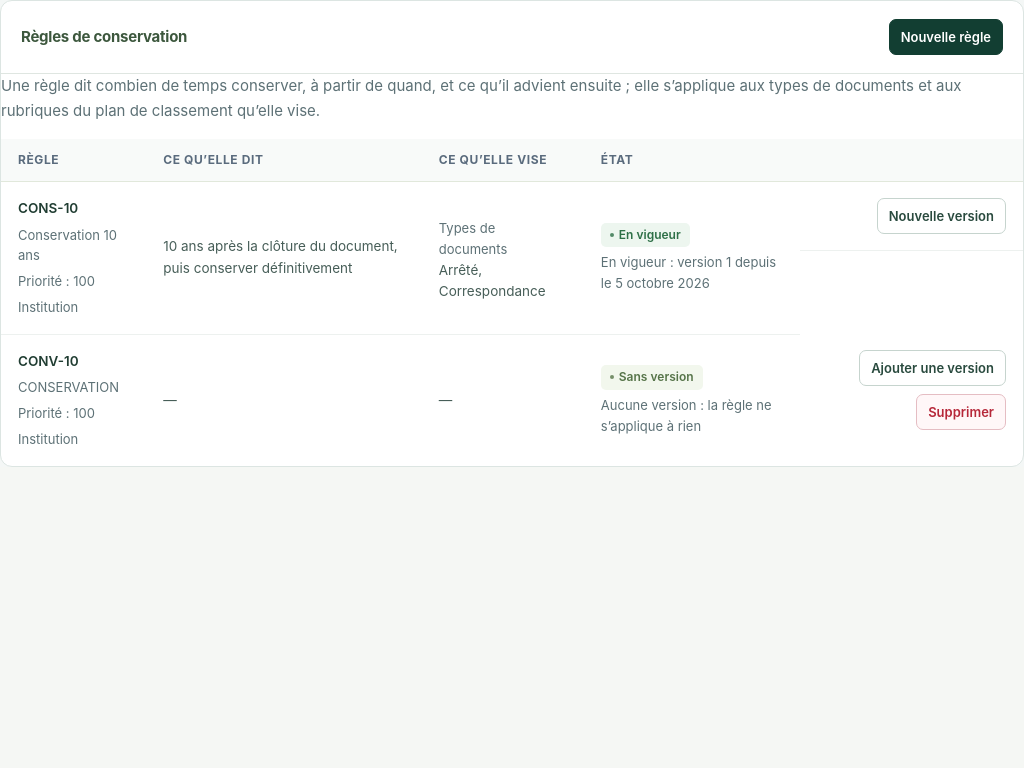
Test: supprimer une règle sans version demande confirmation, puis la retire de la liste
The width and height of the screenshot is (1024, 768).
Step 1. Click the button "Supprimer" → (961, 412), box [916,394,1006,430]
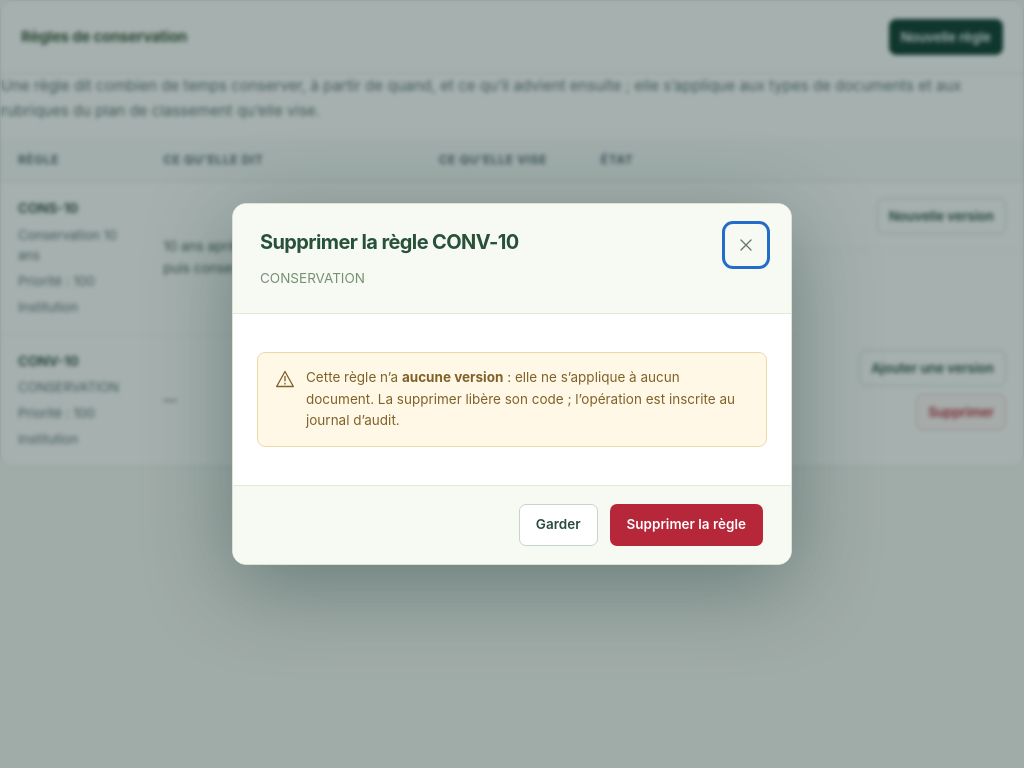
Now the text "aucune version" is shown, box [402,369,503,385]
Step 2. Click the button "Supprimer la règle" → (686, 525), box [610,504,763,546]
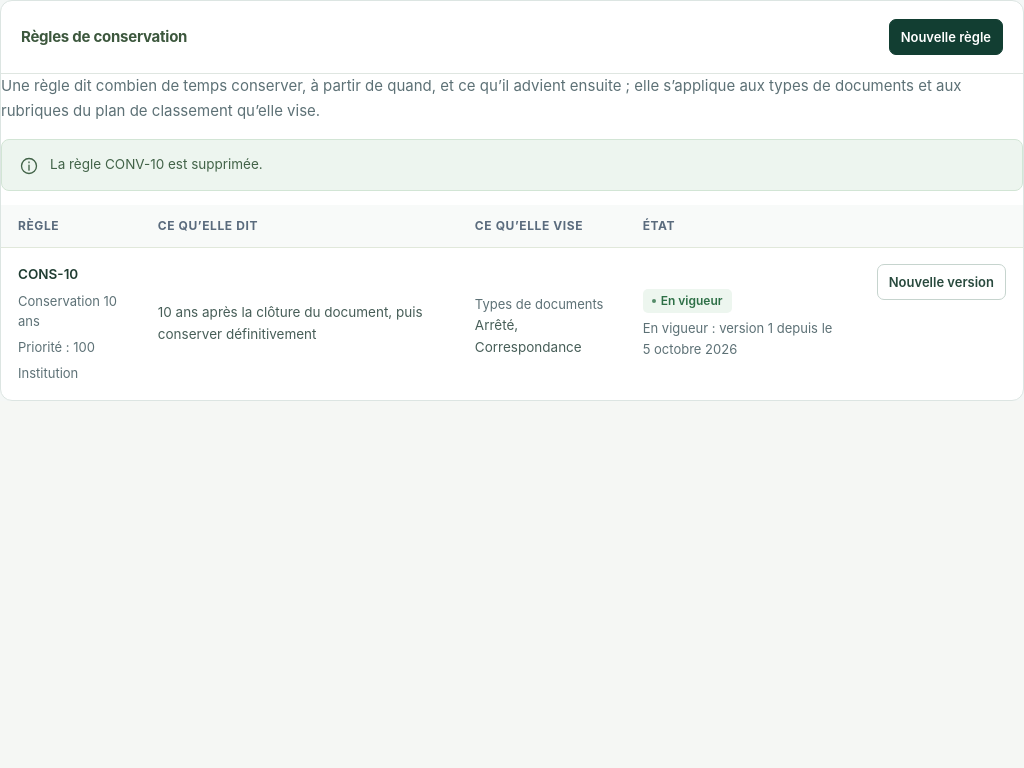
Now the text "La règle CONV-10 est supprimée." is shown, box [50,154,263,175]
